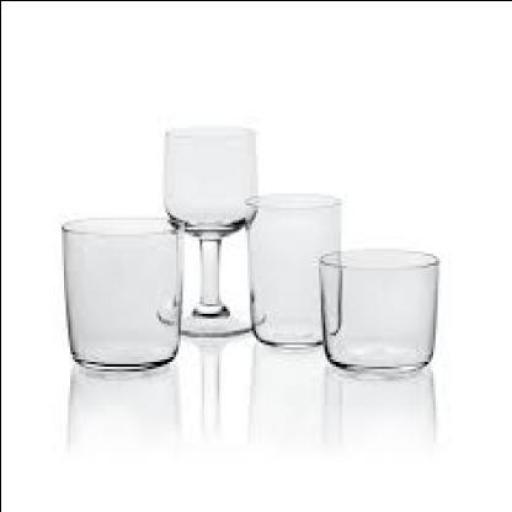glass: (153, 125, 262, 334), (59, 212, 179, 363), (316, 245, 436, 373), (242, 192, 339, 348)
